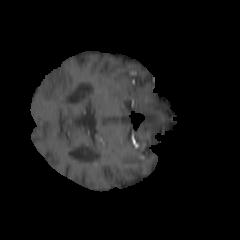glioma: (40, 66, 79, 102)
